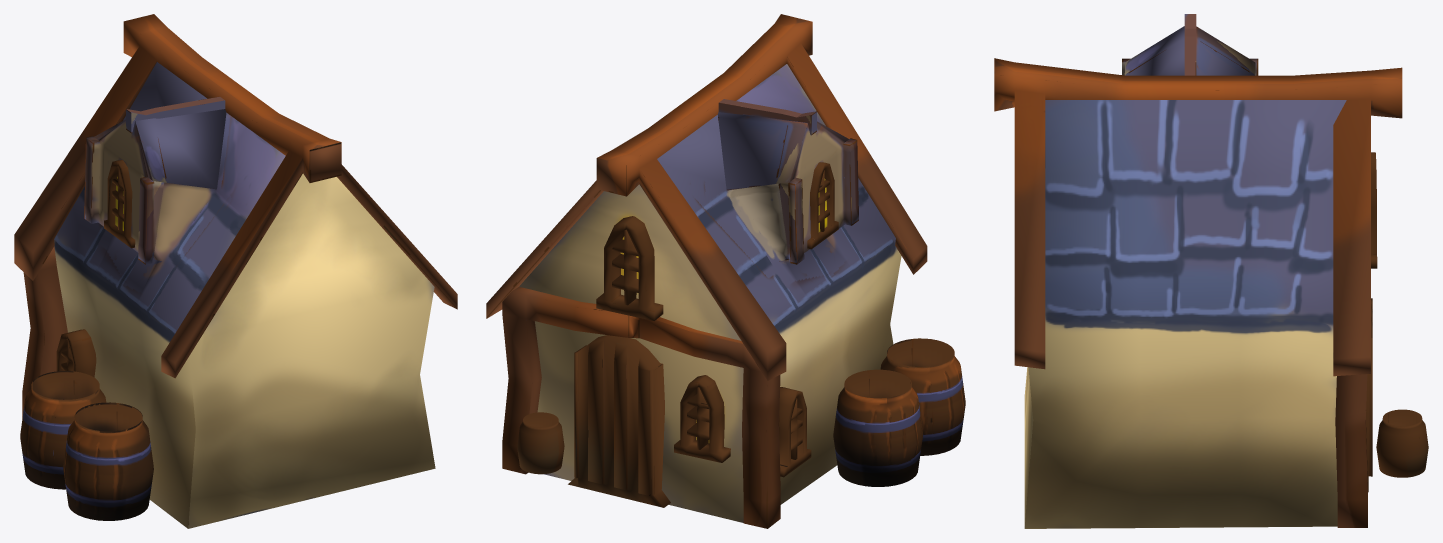
Rendered from HOUSE.fbx.
3 renders of one model, left to right at view 1: azimuth 30°, elevation 25°; view 2: azimuth 150°, elevation 25°; view 3: azimuth 270°, elevation 25°, orthographic. The views are drawn at different scales.
Visible parts, largest first — view 1: Cube.006, Cube.002, Cube.000, Cube.001; view 2: Cube.006, Cube.002, Cube.001, Cube.000; view 3: Cube.006, Cube.002, Cube.001.
Part boxes in pixels (left/top/right/bottom): Cube.006: left=54, top=62, right=435, bottom=528; Cube.002: left=14, top=14, right=457, bottom=418; Cube.000: left=20, top=371, right=153, bottom=520; Cube.001: left=56, top=160, right=135, bottom=377; Cube.006: left=519, top=64, right=901, bottom=522; Cube.002: left=486, top=14, right=927, bottom=528; Cube.001: left=517, top=162, right=838, bottom=507; Cube.000: left=833, top=338, right=965, bottom=486; Cube.006: left=1024, top=14, right=1346, bottom=528; Cube.002: left=994, top=58, right=1402, bottom=527; Cube.001: left=1366, top=152, right=1428, bottom=492.
Bounding box in the file's own units: 1635 × 1612 × 1601.
